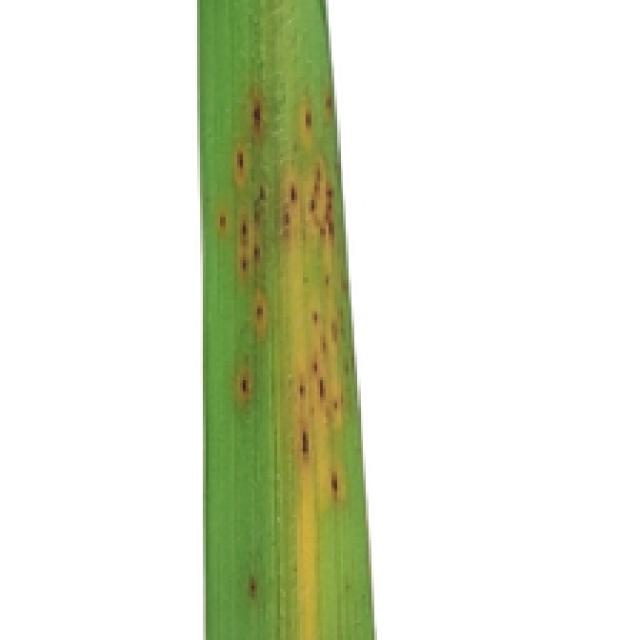Rice___Brown_Spot: (197, 0, 377, 637)
